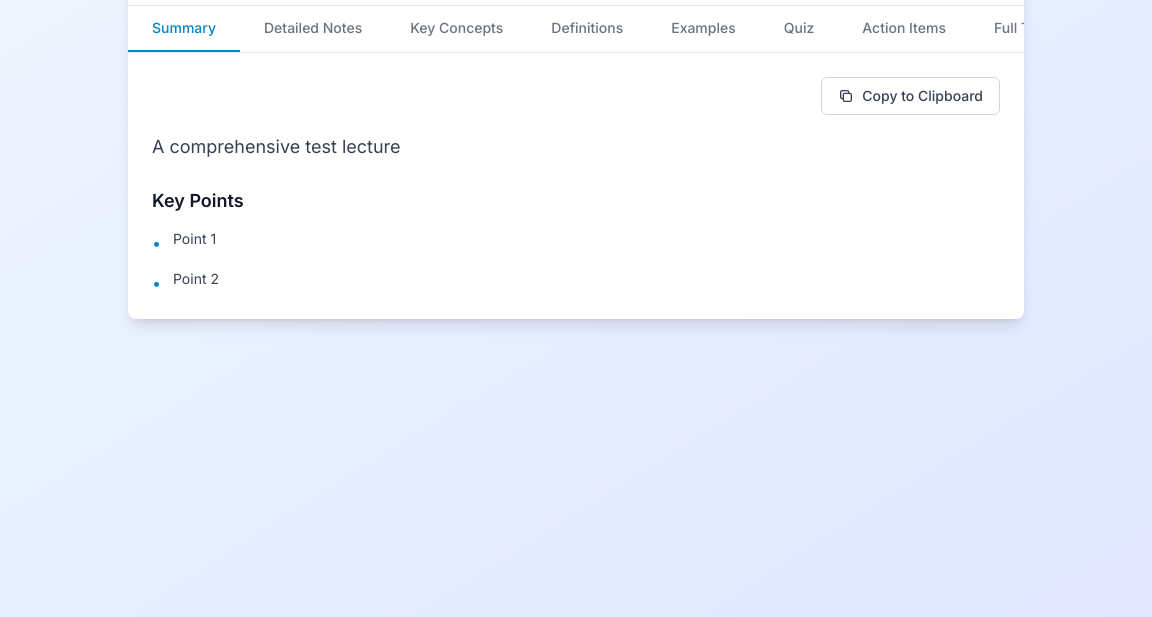
Scenario: Quiz Feature › Quiz Results › should display explanations after submission when available
Click the button "Quiz": (799,29) [760,6,838,52]
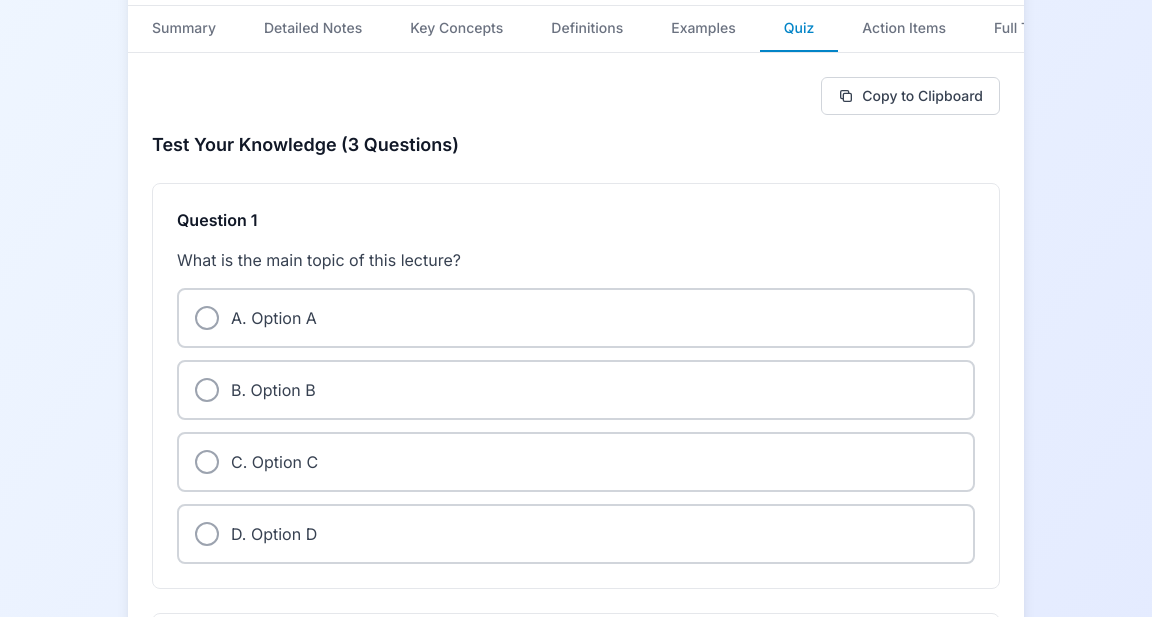
Click the button "A. Option A": (284,318) [177,288,975,348]
(page scrolled)
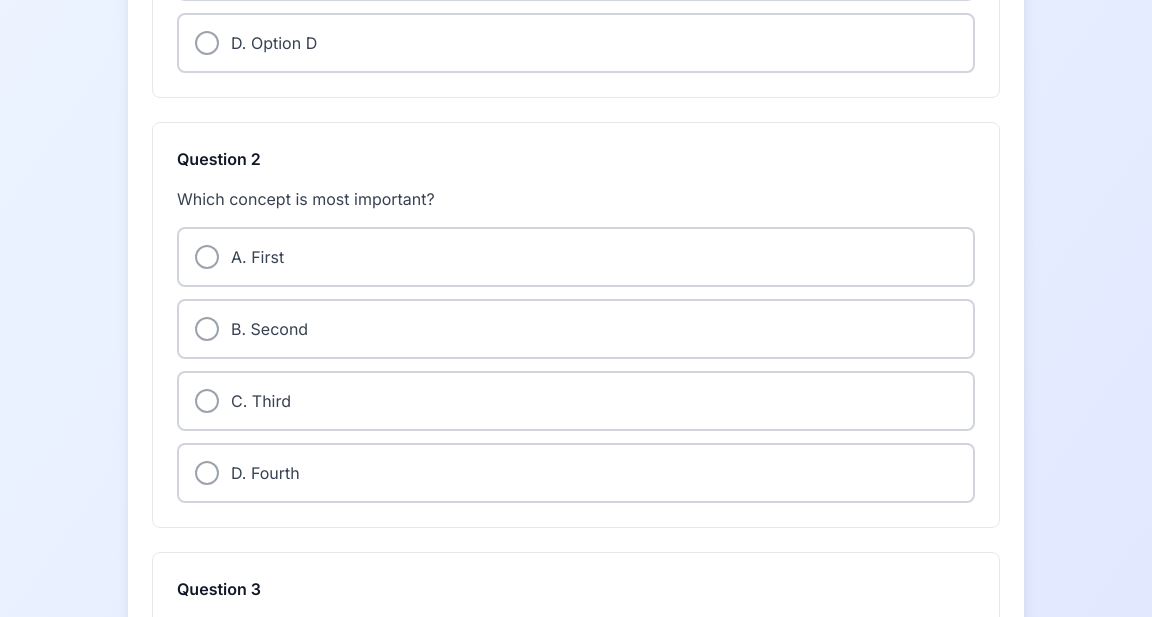
Click the button "A. First": (268,257) [177,227,975,287]
(page scrolled)
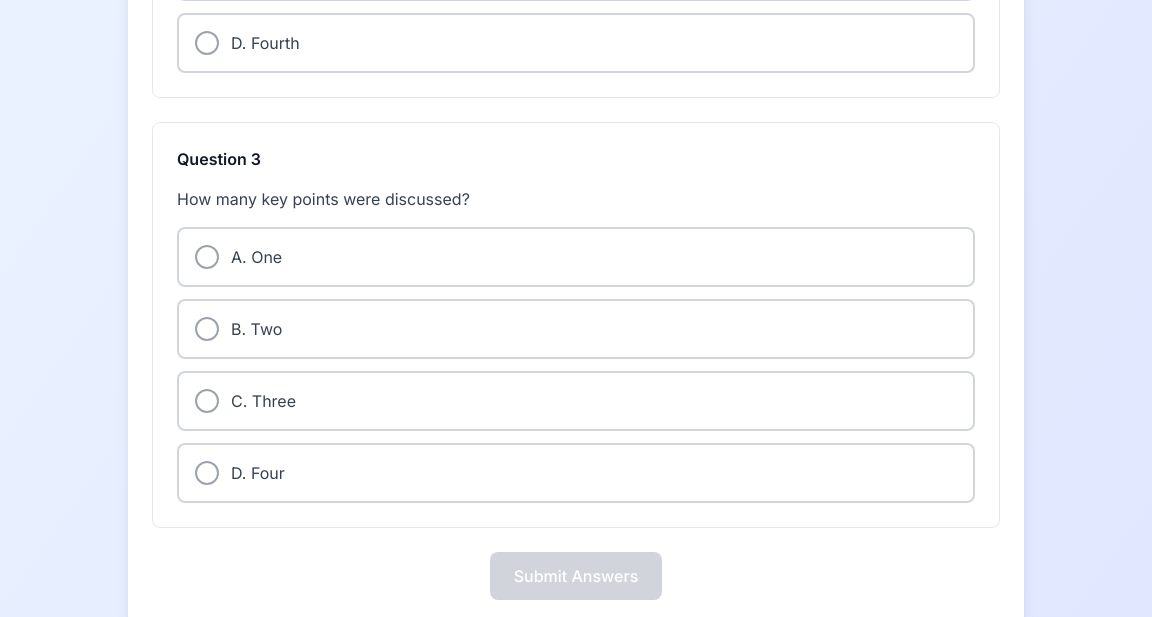
Click the button "A. One": (267,257) [177,227,975,287]
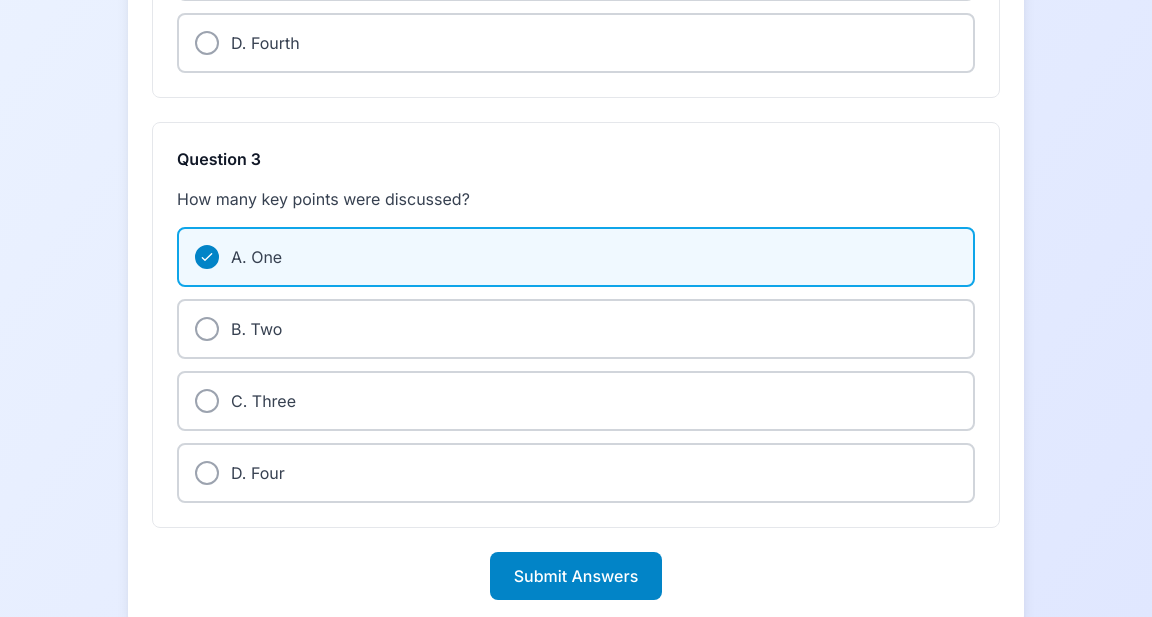
Click the button "Submit Answers": (576,576) [490,552,662,600]
(page scrolled)
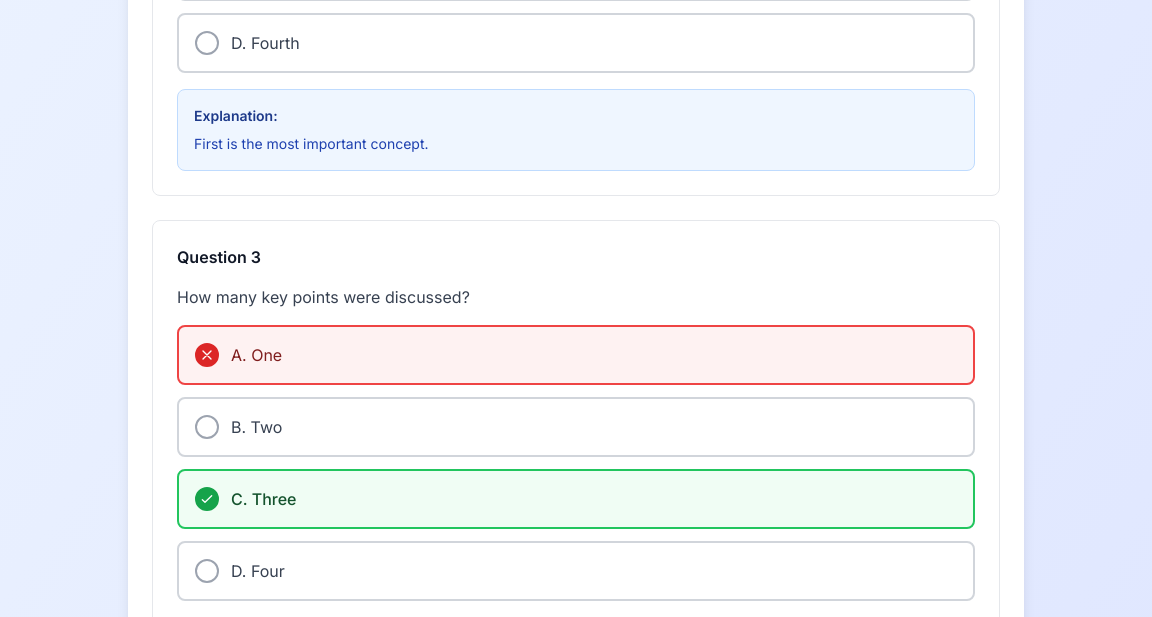
Expected: the text "First is the most important concept." is shown, [194,135,428,152]
